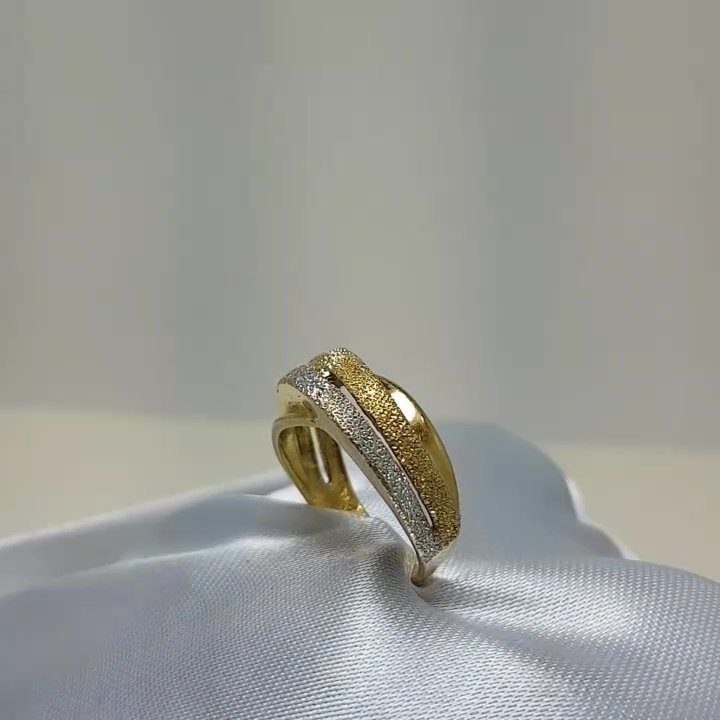Ring 5: (250, 323, 471, 594)
